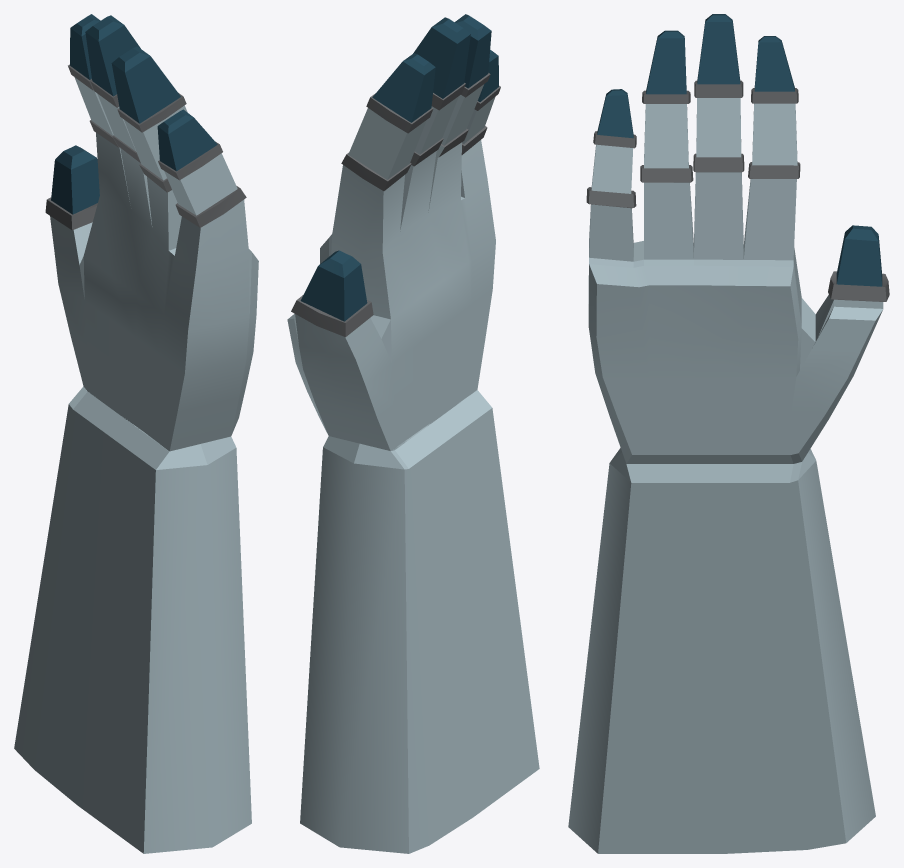
Rendered from hand.obj.
The picture shows the model from 3 angles, left to right: view 1: azimuth 30°, elevation 25°; view 2: azimuth 150°, elevation 25°; view 3: azimuth 270°, elevation 25°; orthographic projection. The views are drawn at different scales.
Parts seen in each view (by area): view 1: polySurface2 group1 pCube1, group1 pCube1 polySurface1 polySurface4 polySurface6 polySurface, group1 pCube1 polySurface3 polySurface1; view 2: polySurface2 group1 pCube1, group1 pCube1 polySurface1 polySurface4 polySurface6 polySurface, group1 pCube1 polySurface3 polySurface1, group1 pCube1 polySurface1 polySurface5 polySurface4, group1 pCube1 polySurface1 polySurface4 polySurface7 polySurface; view 3: polySurface2 group1 pCube1, group1 pCube1 polySurface1 polySurface4 polySurface6 polySurface, group1 pCube1 polySurface3 polySurface1, group1 pCube1 polySurface1 polySurface5 polySurface4, group1 pCube1 polySurface1 polySurface4 polySurface7 polySurface.
Boxes of the visible parts, <box> form: polySurface2 group1 pCube1: <box>14,386,251,853</box>; group1 pCube1 polySurface1 polySurface4 polySurface6 polySurface: <box>50,14,258,451</box>; group1 pCube1 polySurface3 polySurface1: <box>45,197,97,230</box>; polySurface2 group1 pCube1: <box>300,390,539,853</box>; group1 pCube1 polySurface1 polySurface4 polySurface6 polySurface: <box>287,14,500,450</box>; group1 pCube1 polySurface3 polySurface1: <box>291,295,373,337</box>; group1 pCube1 polySurface1 polySurface5 polySurface4: <box>341,152,411,190</box>; group1 pCube1 polySurface1 polySurface4 polySurface7 polySurface: <box>366,93,433,133</box>; polySurface2 group1 pCube1: <box>568,448,875,853</box>; group1 pCube1 polySurface1 polySurface4 polySurface6 polySurface: <box>586,14,883,463</box>; group1 pCube1 polySurface3 polySurface1: <box>828,271,889,301</box>; group1 pCube1 polySurface1 polySurface5 polySurface4: <box>748,162,800,178</box>; group1 pCube1 polySurface1 polySurface4 polySurface7 polySurface: <box>751,88,798,103</box>.
Size of the model in its own units: 2.04 by 12.69 by 4.64.
